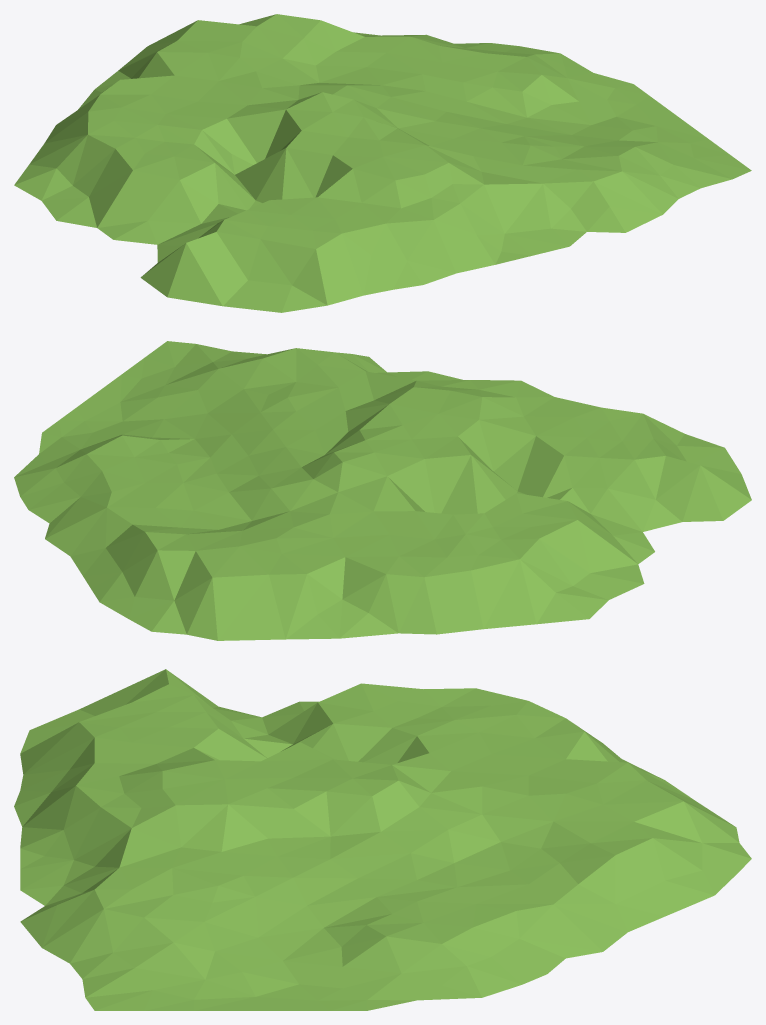
Rendered from MT_Mountain_M_c_13_LOD.fbx.
3 renders of one model, top to bottom at view 1: azimuth 30°, elevation 25°; view 2: azimuth 150°, elevation 25°; view 3: azimuth 270°, elevation 25°, orthographic. The views are drawn at different scales.
Parts seen in each view (by area): view 1: MT_Mountain_M_c_13_LOD0; view 2: MT_Mountain_M_c_13_LOD0; view 3: MT_Mountain_M_c_13_LOD0.
Boxes of the visible parts, box(x1,y1,x2,y2) form: MT_Mountain_M_c_13_LOD0: box(14, 14, 751, 312); MT_Mountain_M_c_13_LOD0: box(14, 341, 751, 640); MT_Mountain_M_c_13_LOD0: box(14, 669, 751, 1010).
Size of what is drawn, in the model's own units: 4805 by 440 by 4648.
